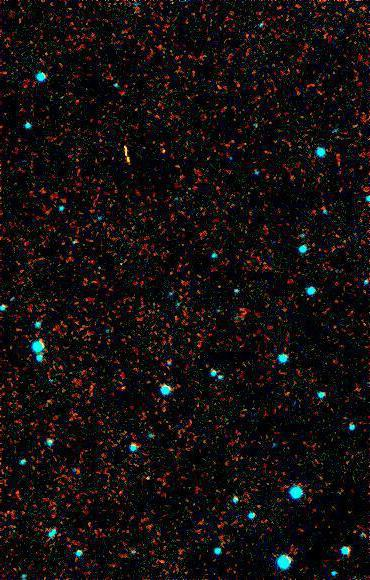star: (109, 369, 139, 399)
